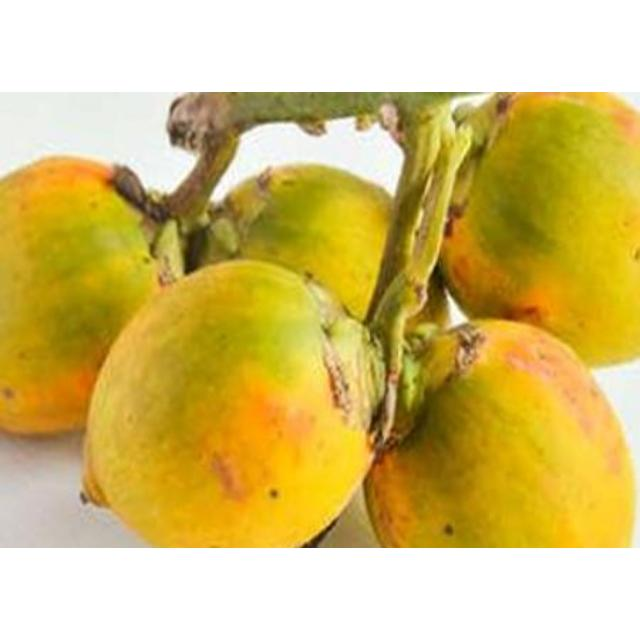good: (85, 260, 372, 546), (364, 320, 636, 548), (436, 92, 640, 368), (0, 155, 172, 435), (218, 164, 398, 324)
